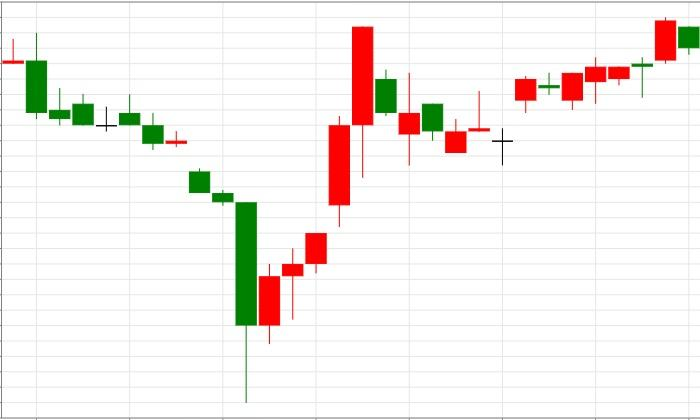three_white_soldiers_rise: (119, 95, 327, 403)
